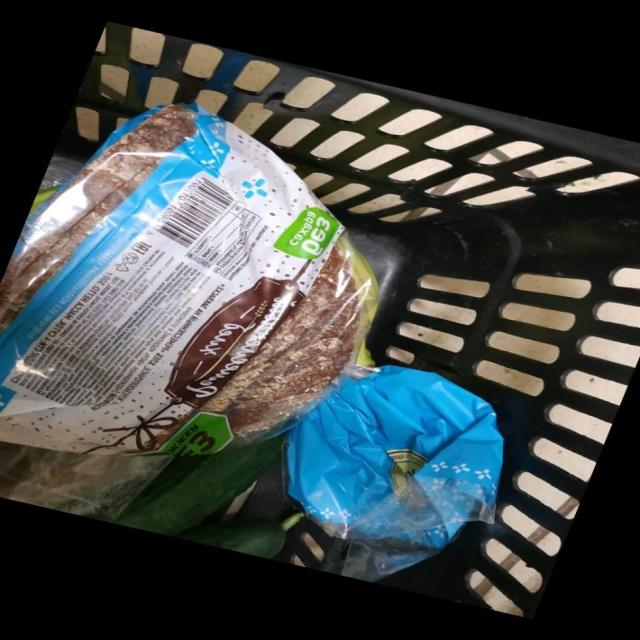Bread: (0, 104, 503, 582)
Cucumber: (109, 434, 284, 537), (174, 519, 286, 559)
